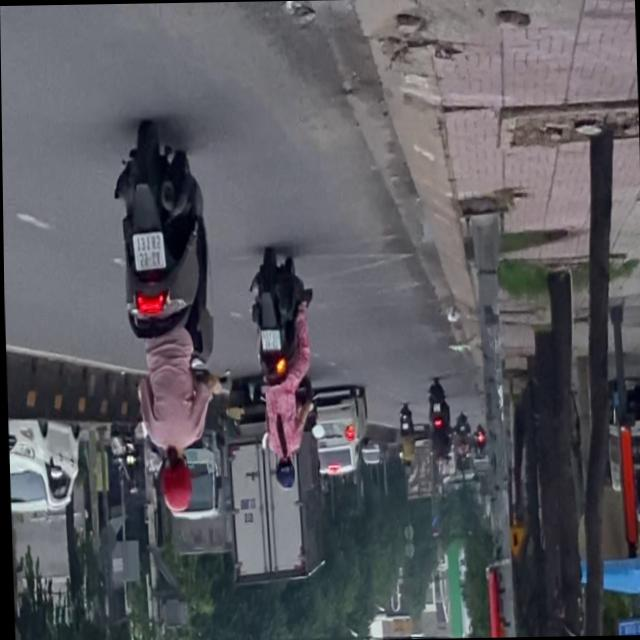helmet: (156, 450, 192, 516), (271, 458, 293, 491)
licenseplate: (107, 121, 221, 520), (245, 250, 316, 493)
nohelmet: (131, 232, 165, 270), (260, 329, 280, 350)
